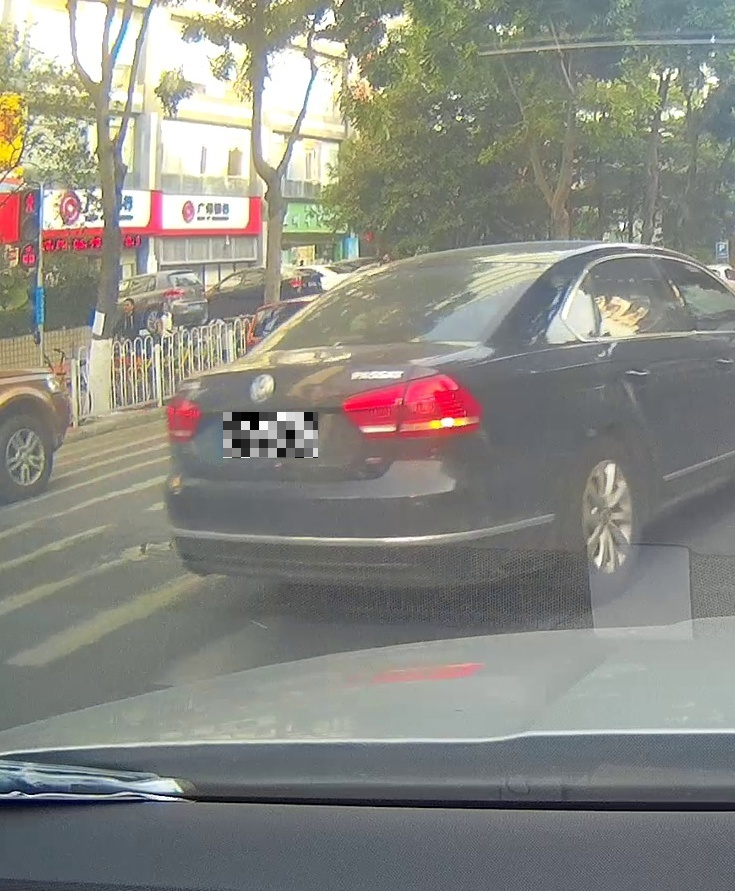L_light: (164, 395, 203, 445)
R_light: (339, 373, 483, 442)
T_light: (330, 334, 362, 345)
day-right: (162, 240, 560, 611)
plate_1: (223, 412, 318, 458)
